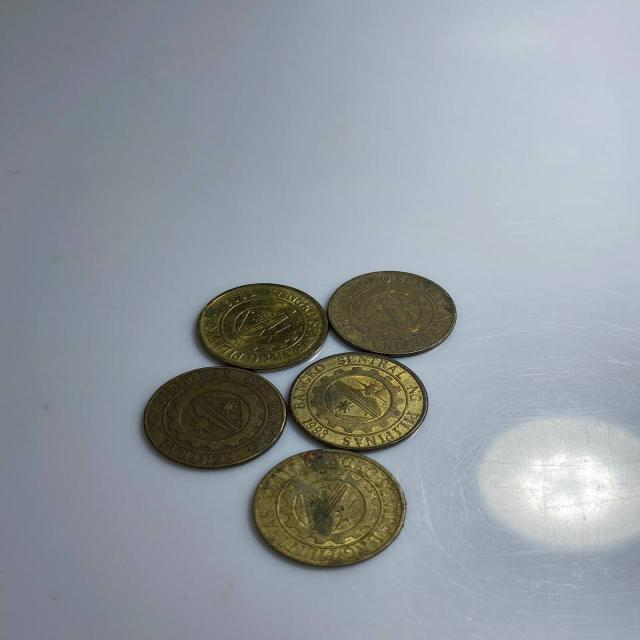25Cent_Old_Back: (248, 453, 408, 564), (137, 370, 283, 469), (283, 357, 425, 448), (200, 280, 324, 374), (332, 271, 451, 353)
